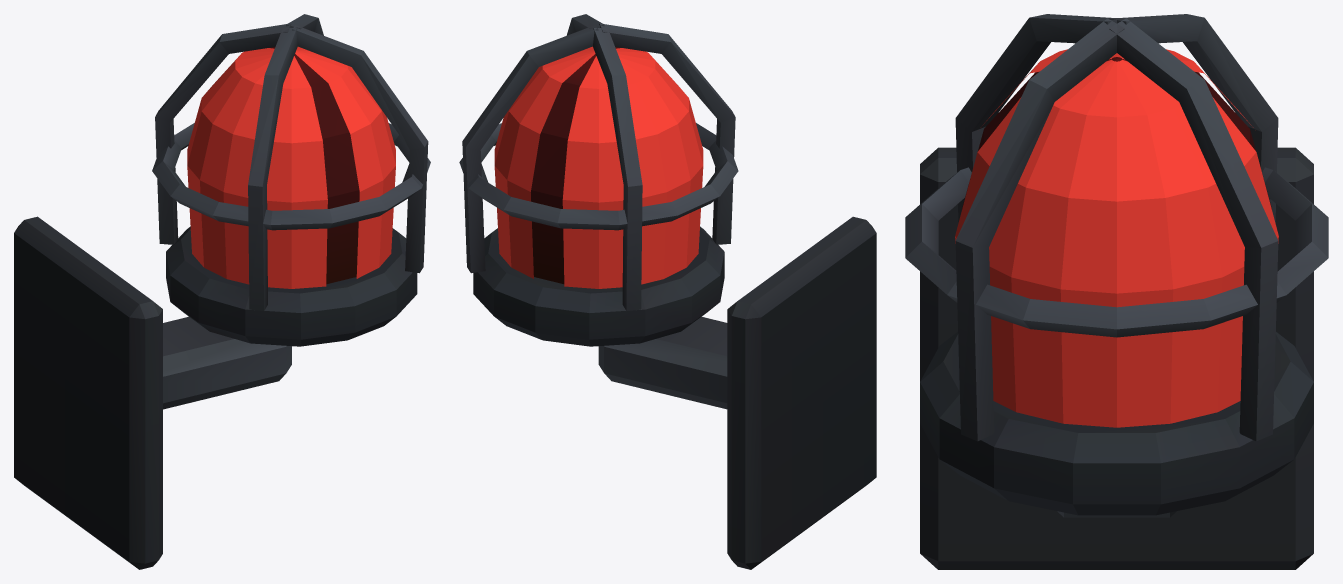
File: alarm_light.glb
3 renders of one model, left to right at view 1: azimuth 30°, elevation 25°; view 2: azimuth 150°, elevation 25°; view 3: azimuth 270°, elevation 25°, orthographic. The views are drawn at different scales.
Visible parts, largest first — view 1: Body, Lamp; view 2: Body, Lamp; view 3: Body, Lamp.
Boxes of the visible parts, box(x1,y1,x2,y2) form: Body: box(14, 14, 430, 569); Lamp: box(187, 46, 395, 288); Body: box(459, 14, 876, 569); Lamp: box(494, 46, 703, 288); Body: box(905, 14, 1328, 569); Lamp: box(955, 49, 1278, 427).
Bounding box in the file's own units: 0.403 × 0.5087 × 0.2794.
